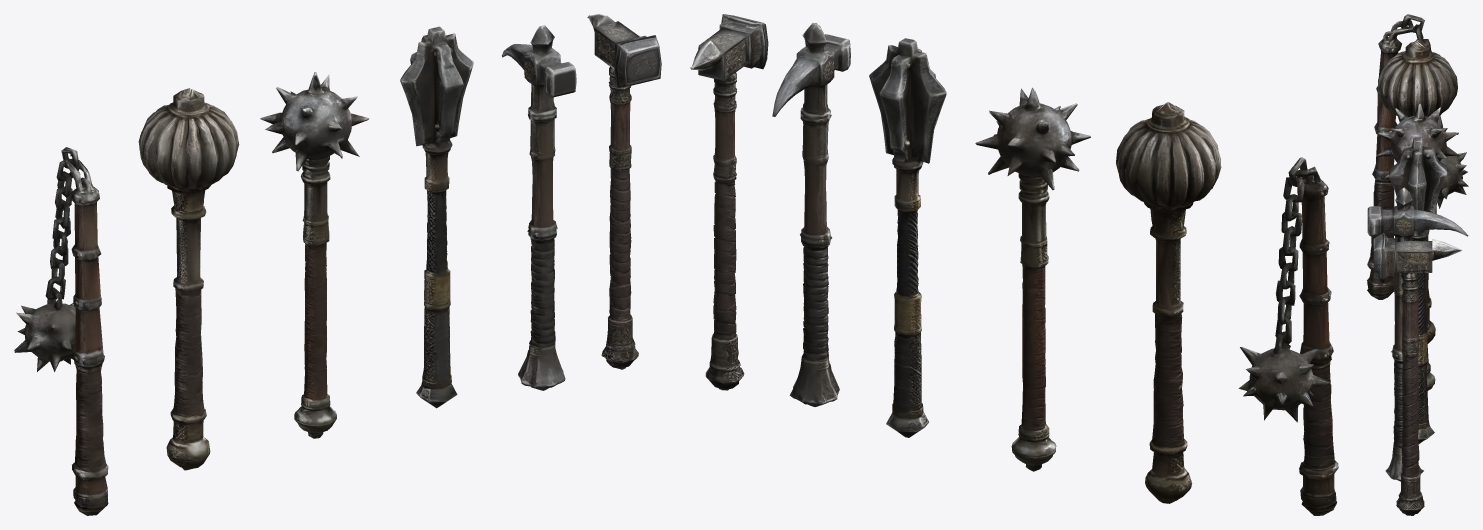
File: weapons_hammers_maces.glb
3 views of the same model, side by side, from view 1: azimuth 30°, elevation 25°; view 2: azimuth 150°, elevation 25°; view 3: azimuth 270°, elevation 25° (orthographic). The views are drawn at different scales.
Visible parts, largest first — view 1: mace_gurz, flail_chain, mace_flanged, mace_morningstar, hammer_lucerne, hammer_war; view 2: mace_gurz, flail_chain, mace_flanged, mace_morningstar, hammer_lucerne, hammer_war; view 3: hammer_war, mace_gurz, flail_chain, mace_flanged, hammer_lucerne, mace_morningstar.
Part boxes in pixels (<box>): mace_gurz: <box>138,88,239,470</box>; flail_chain: <box>14,147,108,515</box>; mace_flanged: <box>400,26,473,408</box>; mace_morningstar: <box>260,72,369,438</box>; hammer_lucerne: <box>502,25,576,390</box>; hammer_war: <box>587,14,661,369</box>; mace_gurz: <box>1116,102,1221,503</box>; flail_chain: <box>1238,157,1338,515</box>; mace_flanged: <box>869,38,946,437</box>; mace_morningstar: <box>975,87,1090,471</box>; hammer_lucerne: <box>772,23,850,406</box>; hammer_war: <box>690,14,768,390</box>; hammer_war: <box>1373,233,1461,515</box>; mace_gurz: <box>1378,40,1457,343</box>; flail_chain: <box>1367,14,1468,299</box>; mace_flanged: <box>1388,137,1447,443</box>; hammer_lucerne: <box>1367,187,1468,481</box>; mace_morningstar: <box>1376,103,1459,390</box>.
Size of the model in its own units: 0.9363 by 0.5615 by 0.1687.
Materials: 1 (1 with a texture image).
